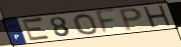8: (50, 16, 72, 38)
E: (21, 17, 53, 43)
F: (94, 8, 118, 36)
H: (142, 4, 175, 30)
O: (72, 13, 100, 36)
P: (117, 7, 144, 33)
